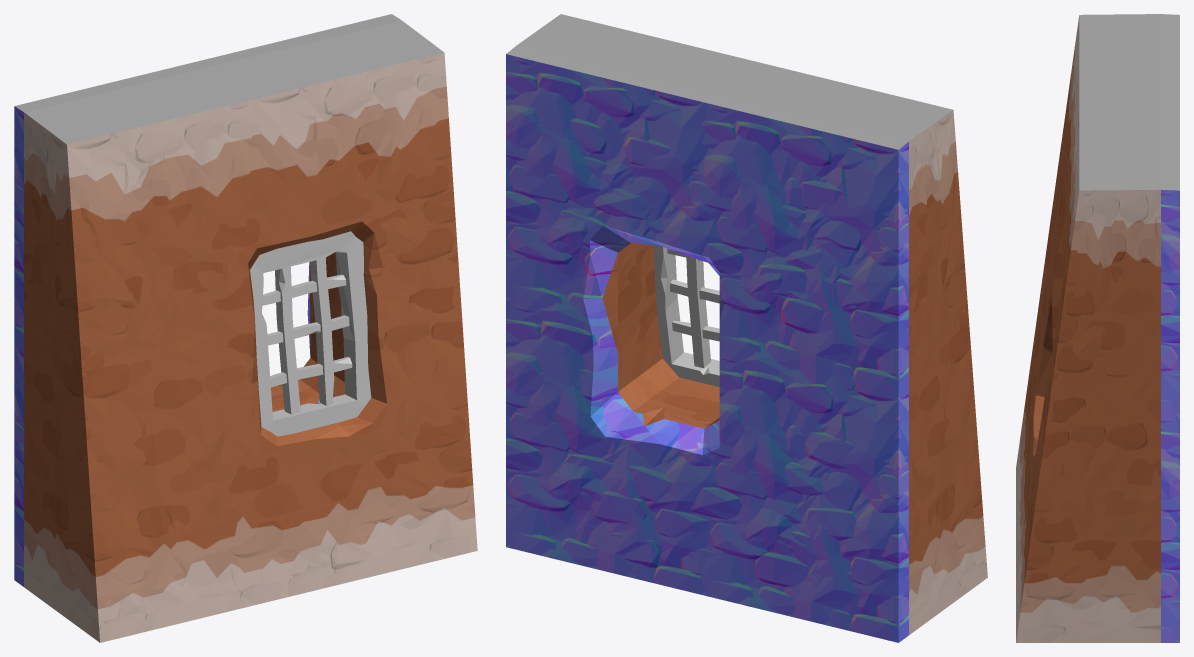
The model's file is SM_Bld_Wall_Ground_Window_03.fbx.
The picture shows the model from 3 angles, left to right: view 1: azimuth 30°, elevation 25°; view 2: azimuth 150°, elevation 25°; view 3: azimuth 270°, elevation 25°; orthographic projection. The views are drawn at different scales.
Visible parts, largest first — view 1: SM_Bld_Wall_Ground_Window_03; view 2: SM_Bld_Wall_Ground_Window_03; view 3: SM_Bld_Wall_Ground_Window_03.
Part boxes in pixels (x1,y1,x2,y2): SM_Bld_Wall_Ground_Window_03: [14, 14, 477, 642]; SM_Bld_Wall_Ground_Window_03: [506, 14, 987, 642]; SM_Bld_Wall_Ground_Window_03: [1016, 14, 1179, 642].
Bounding box in the file's own units: 250 × 301 × 98.39.
